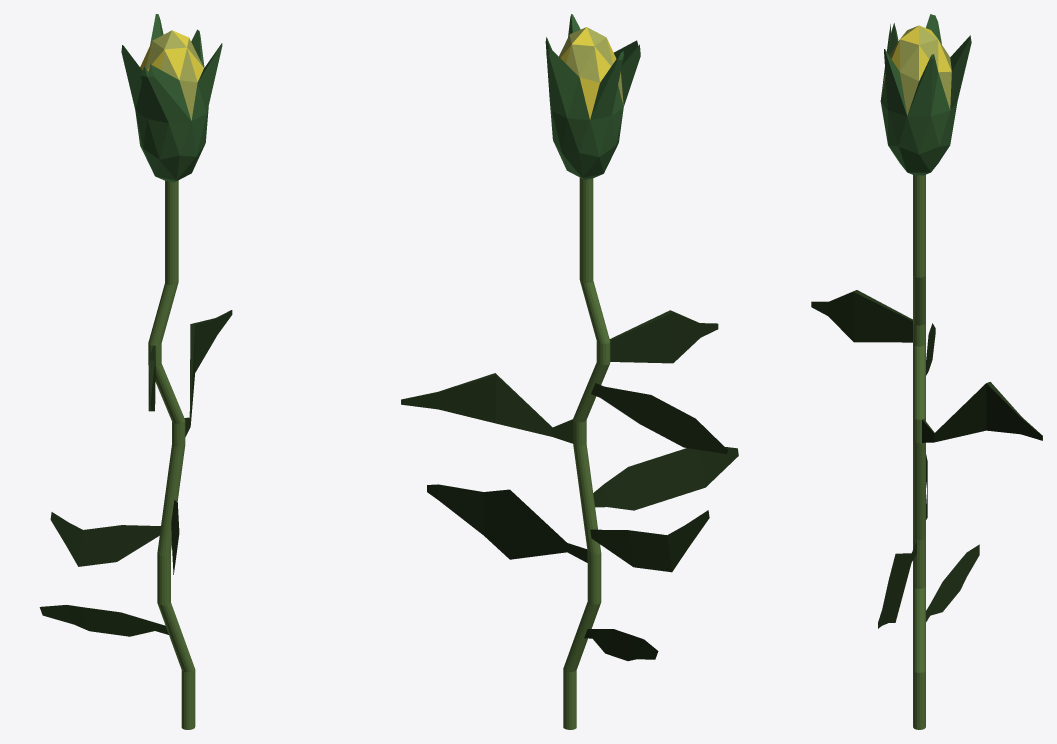
File: milhao.fbx
3 renders of one model, left to right at view 1: azimuth 30°, elevation 25°; view 2: azimuth 150°, elevation 25°; view 3: azimuth 270°, elevation 25°, orthographic.
Parts seen in each view (by area): view 1: Cylinder; view 2: Cylinder; view 3: Cylinder.
Boxes of the visible parts, x1,y1,x2,y2 form: Cylinder: [39, 14, 232, 729]; Cylinder: [401, 14, 738, 729]; Cylinder: [811, 14, 1042, 729].
Size of the model in its own units: 184 by 374 by 135.
